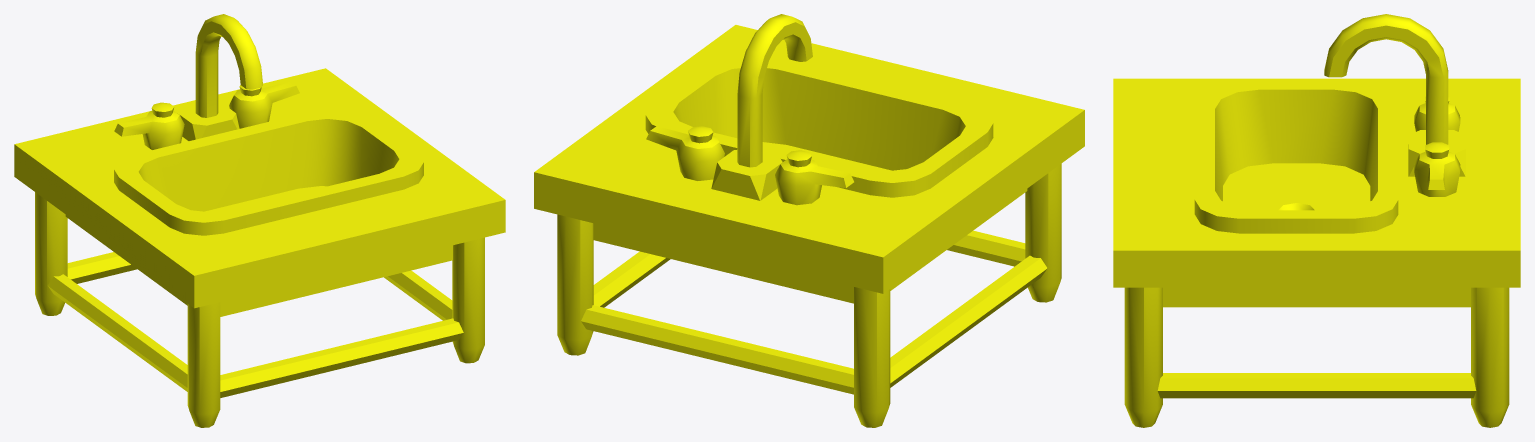
Rendered from kitchentable_sink.gltf.
3 views of the same model, side by side, from view 1: azimuth 30°, elevation 25°; view 2: azimuth 150°, elevation 25°; view 3: azimuth 270°, elevation 25° (orthographic). The views are drawn at different scales.
Visible parts, largest first — view 1: kitchentable_sink; view 2: kitchentable_sink; view 3: kitchentable_sink.
Part boxes in pixels (x1=…): kitchentable_sink: x1=14, y1=14, x2=505, y2=427; kitchentable_sink: x1=534, y1=14, x2=1084, y2=427; kitchentable_sink: x1=1113, y1=14, x2=1520, y2=427.
Size of the model in its own units: 2 by 1.81 by 2.
1 material, 1 textured.
